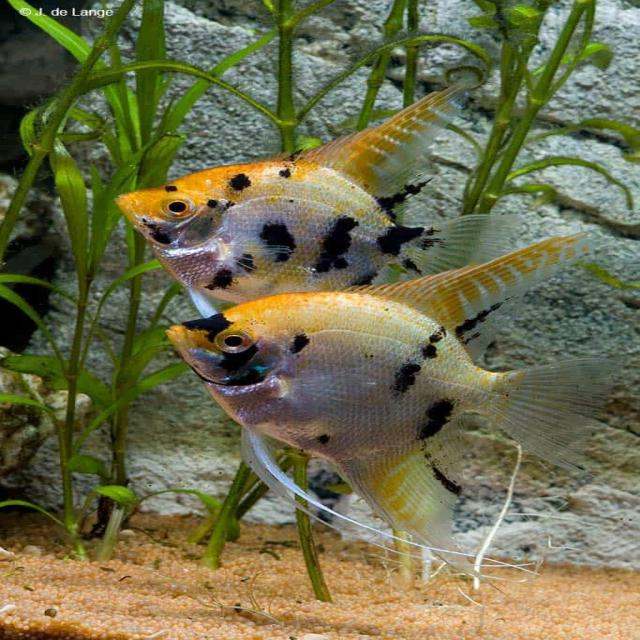AngelFish: (166, 229, 609, 581), (112, 82, 525, 302)
